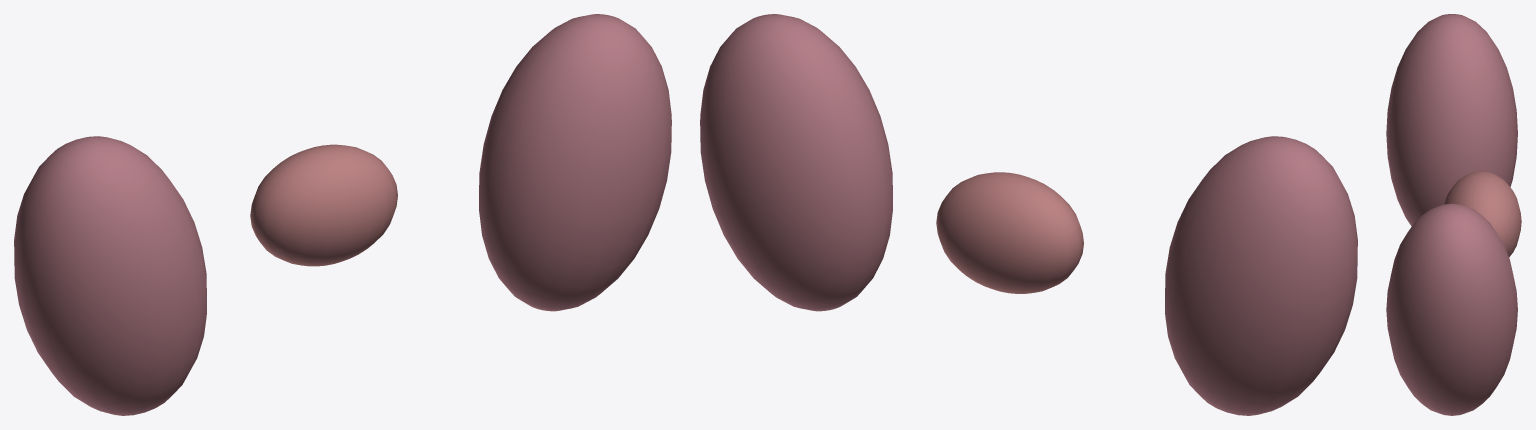
Rendered from kidneys.glb.
3 renders of one model, left to right at view 1: azimuth 30°, elevation 25°; view 2: azimuth 150°, elevation 25°; view 3: azimuth 270°, elevation 25°, orthographic. The views are drawn at different scales.
Parts seen in each view (by area): view 1: kidneys-301, kidneys-297, dev-marker-renal-cortex; view 2: kidneys-301, kidneys-297, dev-marker-renal-cortex; view 3: kidneys-301, kidneys-297, dev-marker-renal-cortex.
Part boxes in pixels (x1,y1,x2,y2): kidneys-301: (479,14,671,311); kidneys-297: (14,136,206,415); dev-marker-renal-cortex: (250,144,397,266); kidneys-301: (700,14,892,311); kidneys-297: (1165,136,1357,415); dev-marker-renal-cortex: (936,172,1083,293); kidneys-301: (1386,203,1517,415); kidneys-297: (1386,14,1517,226); dev-marker-renal-cortex: (1444,171,1521,257).
Bounding box in the file's own units: 0.7861 × 0.3263 × 0.185.
